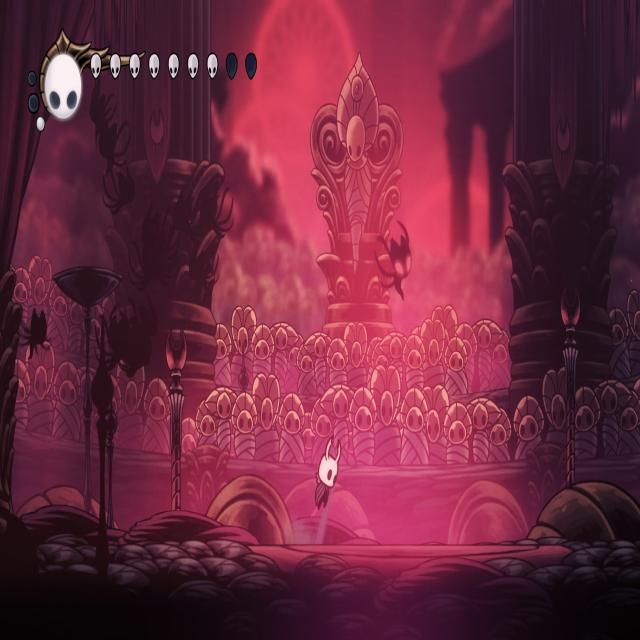Player: (312, 432, 342, 516)
Staggered_Grimm: (375, 215, 416, 308)
